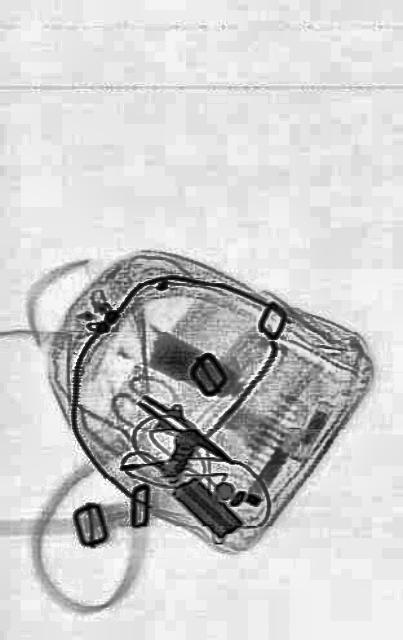Knife: (131, 377, 233, 477)
